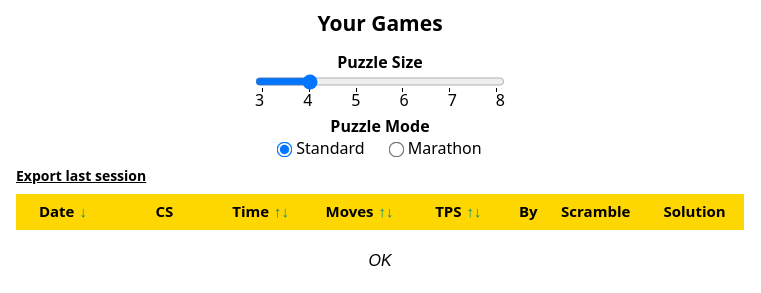
Test case: GamesTable › doExport / jsonToCSV › shows a real error instead of exporting when the session games request fails
Check: the element with class "buttons" is shown, box [330,245,430,277]
Click the link "Export last session". click: click(81, 176)
box: [16,166,146,186]
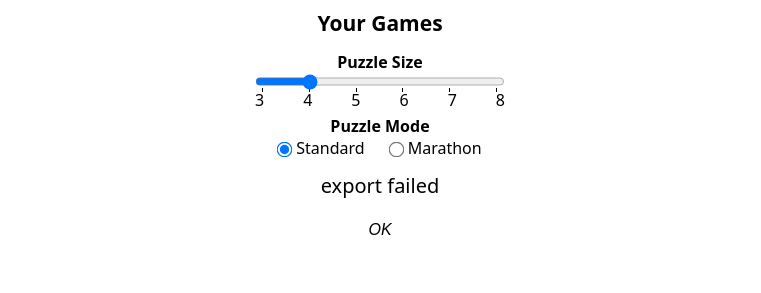
Check: the text with class "table-error-msg" reads "export failed", box [321,172,439,200]
